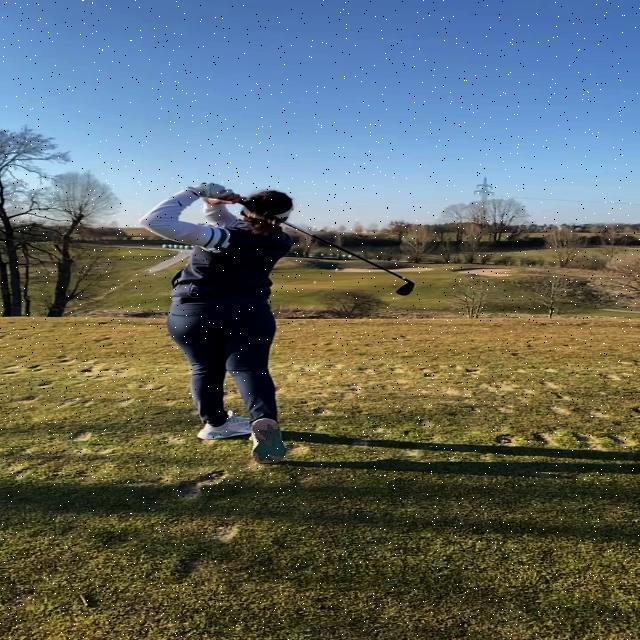ClubHead: (394, 282, 416, 296)
